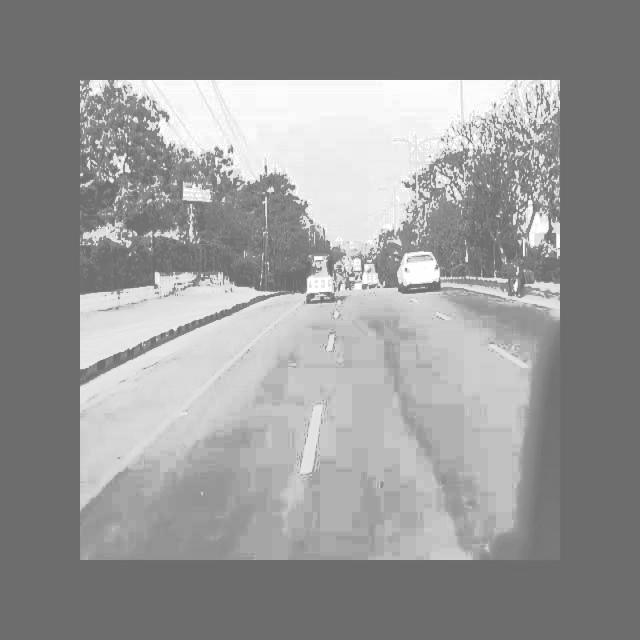Car: (396, 244, 448, 302)
